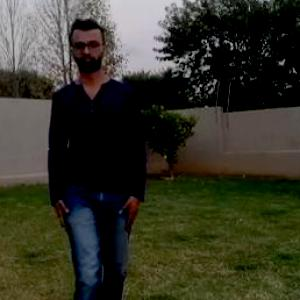follow: (52, 15, 138, 299)
